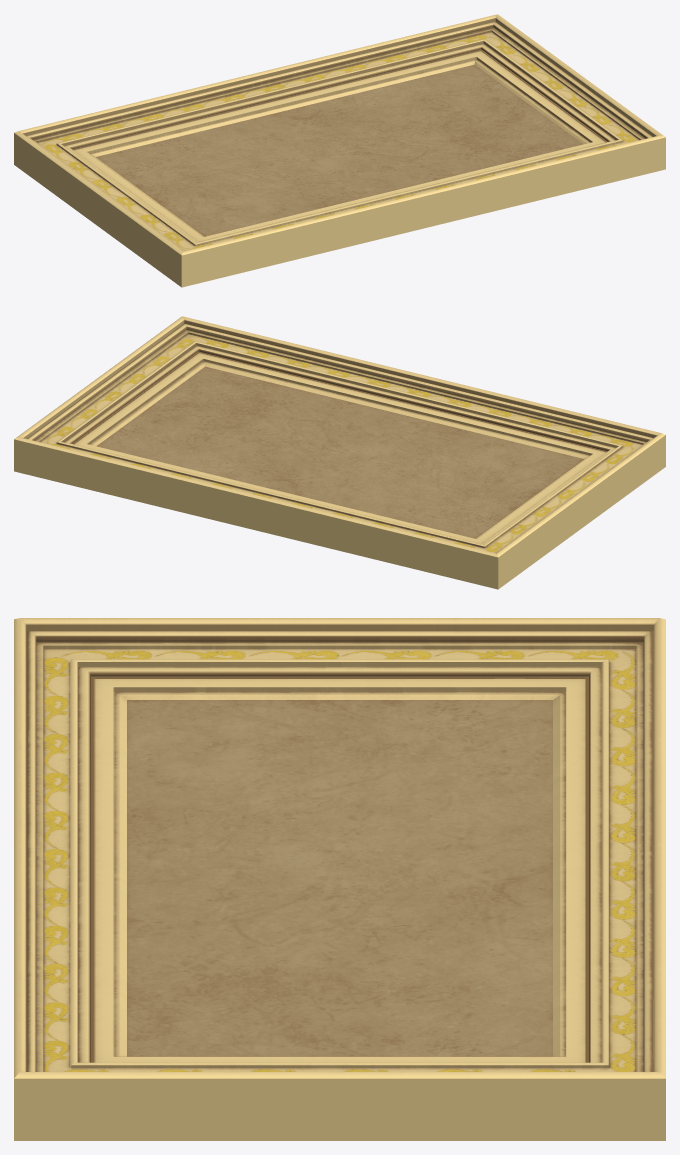
Rendered from Gakubuti1.fbx.
3 renders of one model, top to bottom at view 1: azimuth 30°, elevation 25°; view 2: azimuth 150°, elevation 25°; view 3: azimuth 270°, elevation 25°, orthographic. The views are drawn at different scales.
Visible parts, largest first — view 1: pCube4; view 2: pCube4; view 3: pCube4.
Boxes of the visible parts, x1=… form: pCube4: x1=14, y1=14, x2=665, y2=287; pCube4: x1=14, y1=316, x2=665, y2=589; pCube4: x1=14, y1=618, x2=665, y2=1140.
Bounding box in the file's own units: 5 × 0.3363 × 3.
